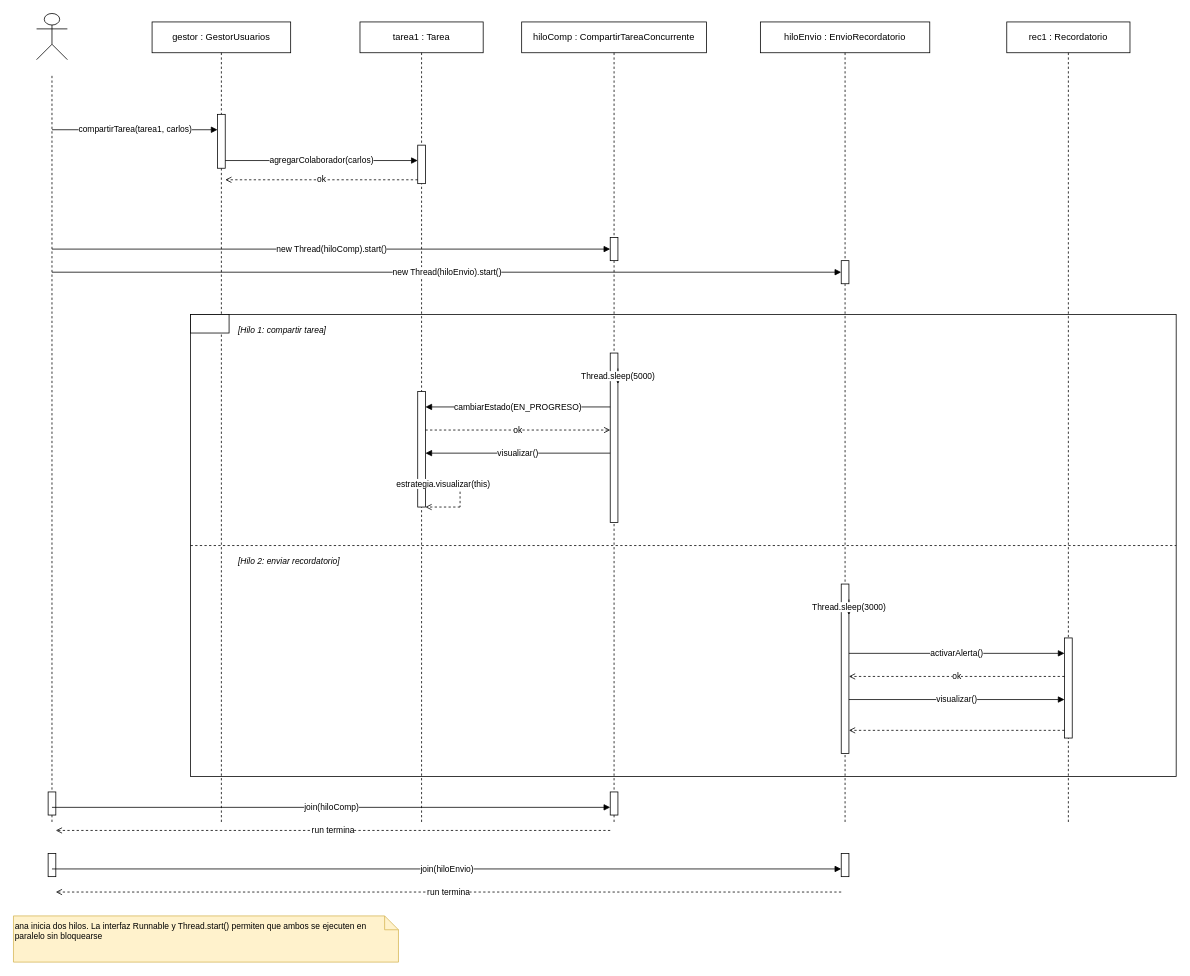
Some shapes in this 1190 by 976 pixel diagram are drawn without their labels. Each missing label, with the centre of its shape:
ana : Usuario: (x=51, y=36)
par: (x=209, y=323)
